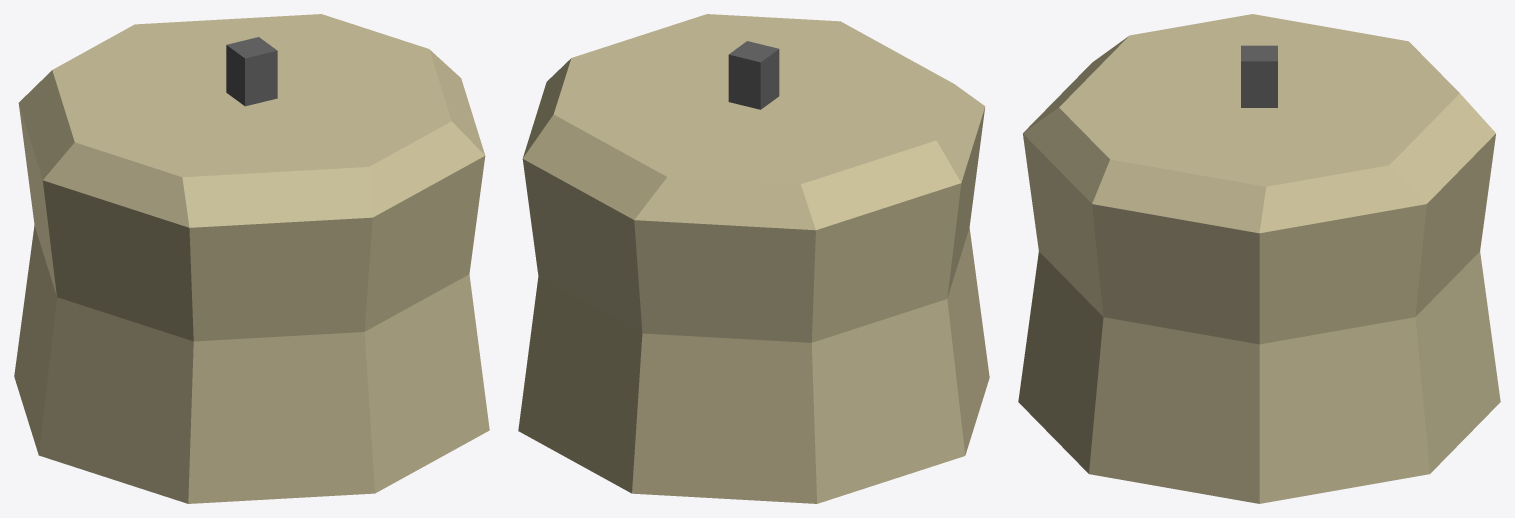
The model's file is swieca_3.fbx.
The picture shows the model from 3 angles, left to right: view 1: azimuth 30°, elevation 25°; view 2: azimuth 150°, elevation 25°; view 3: azimuth 270°, elevation 25°; orthographic projection. The views are drawn at different scales.
Visible parts, largest first — view 1: Cylinder.002; view 2: Cylinder.002; view 3: Cylinder.002.
Part boxes in pixels (bbox=[...]): Cylinder.002: bbox=[14, 14, 489, 503]; Cylinder.002: bbox=[518, 14, 989, 503]; Cylinder.002: bbox=[1018, 14, 1500, 503].
Size of the model in its own units: 234 by 187 by 234.
